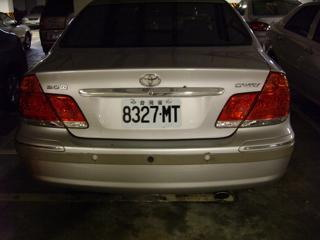plate: (120, 97, 184, 129)
